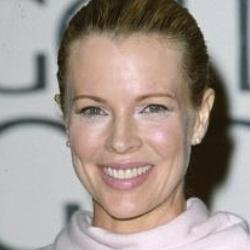face: (40, 2, 220, 223)
